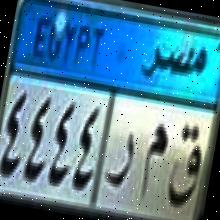4: (66, 100, 106, 199), (45, 92, 82, 194), (21, 88, 58, 184), (0, 85, 34, 180)
meem: (134, 113, 172, 201)
qaaf: (160, 114, 210, 211)
raa: (101, 115, 142, 201)
